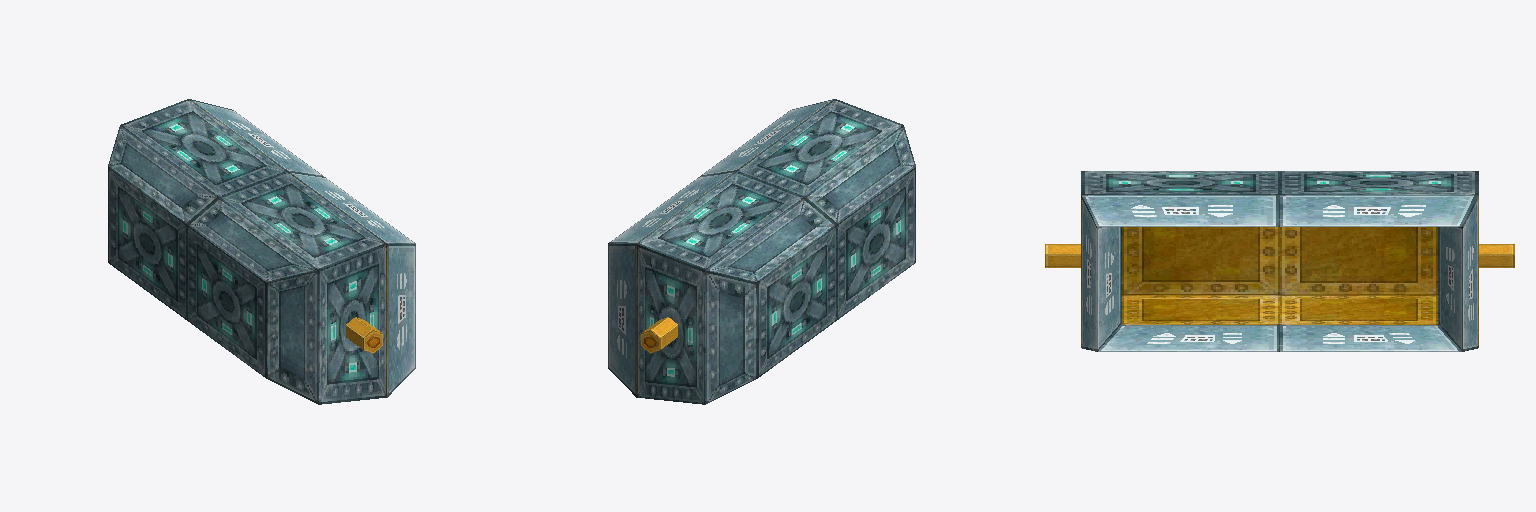
3 renders of one model, left to right at view 1: azimuth 30°, elevation 25°; view 2: azimuth 150°, elevation 25°; view 3: azimuth 270°, elevation 25°, orthographic.
Bounding box in the file's own units: 42 × 44.8 × 124.
1 materials, 1 textured.